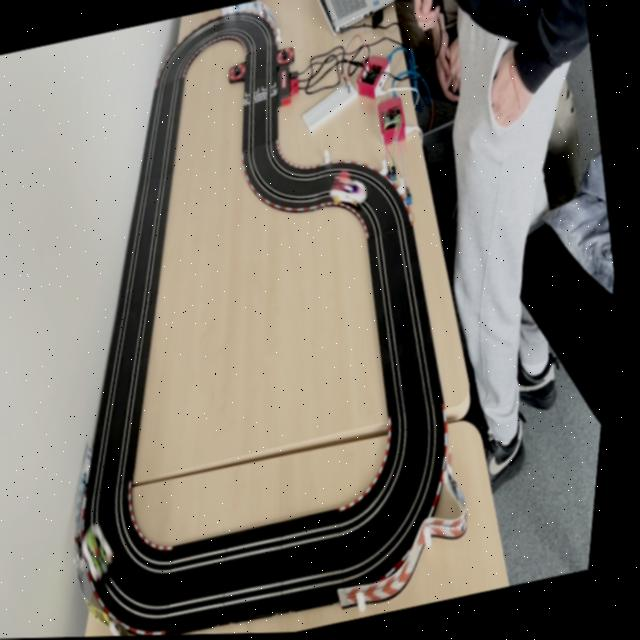mario: (329, 171, 376, 213)
yoshi: (84, 520, 132, 587)
